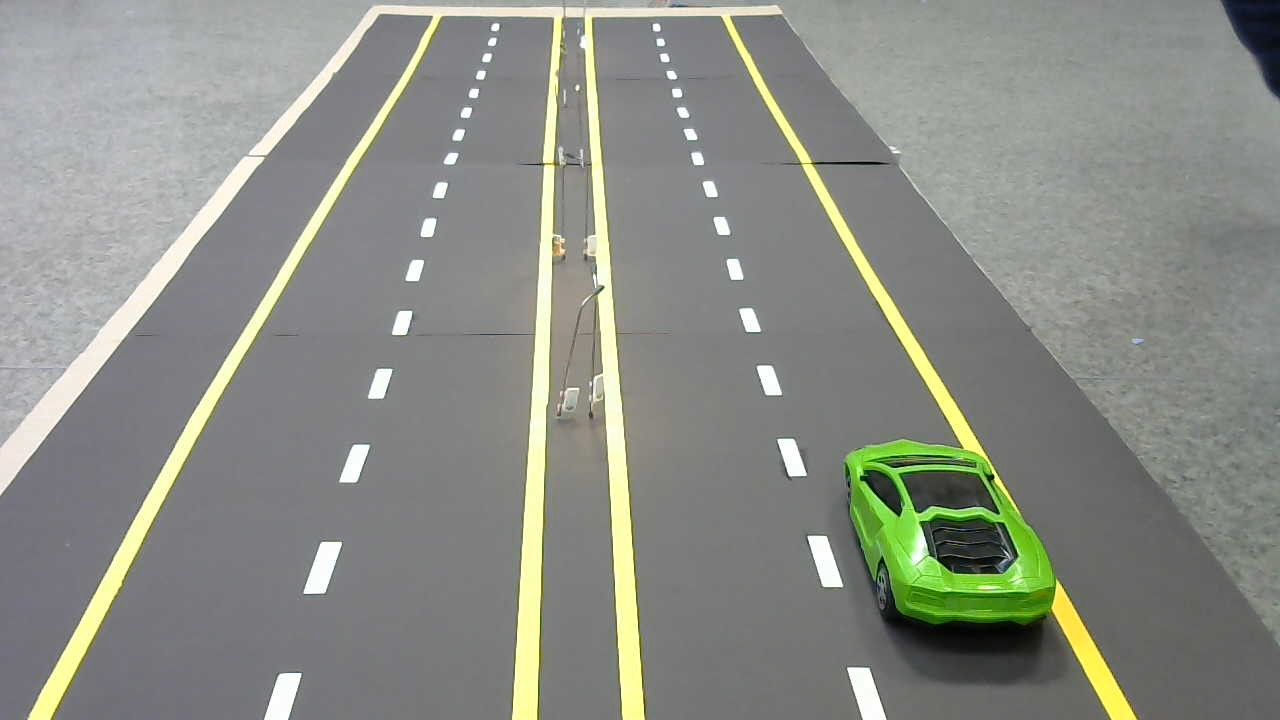back_car: (825, 429, 1070, 634)
